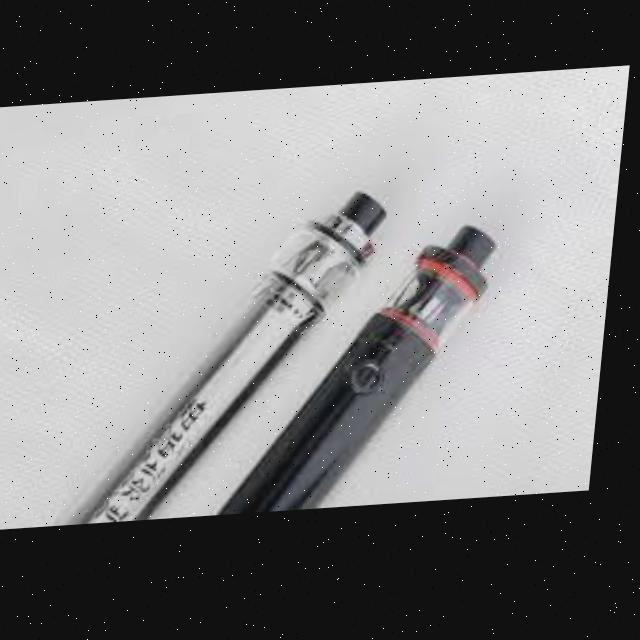vape: (64, 195, 391, 527), (228, 232, 502, 518)
